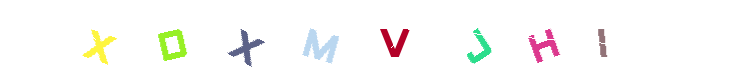D: (132, 0, 212, 80)
H: (439, 0, 519, 80)
I: (490, 0, 570, 80)
J: (354, 0, 434, 80)
M: (313, 0, 393, 80)
V: (327, 0, 407, 80)
X: (59, 0, 139, 80), (278, 0, 358, 80)
